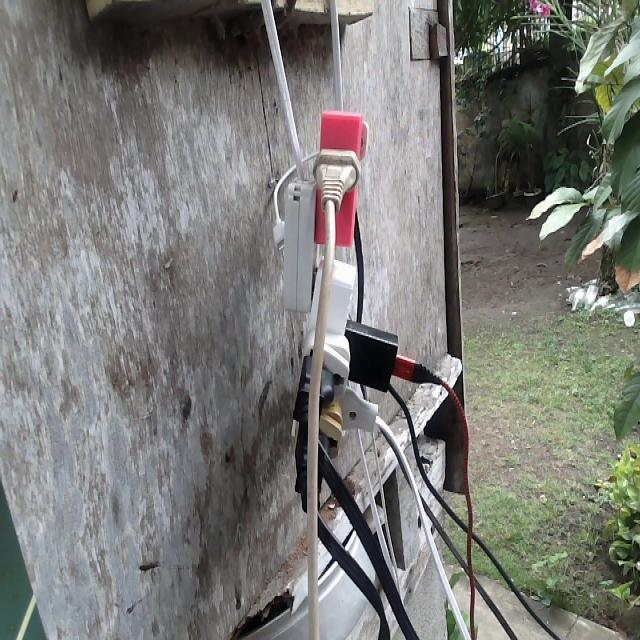-: (262, 99, 433, 513)
